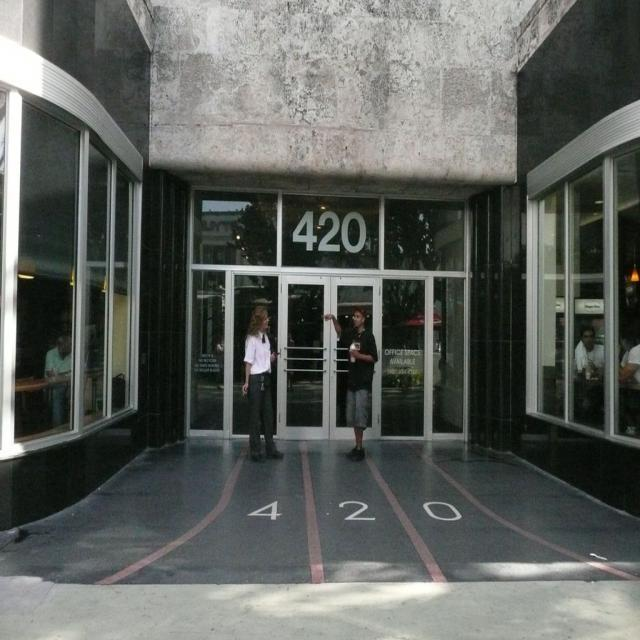door: (279, 270, 381, 440)
